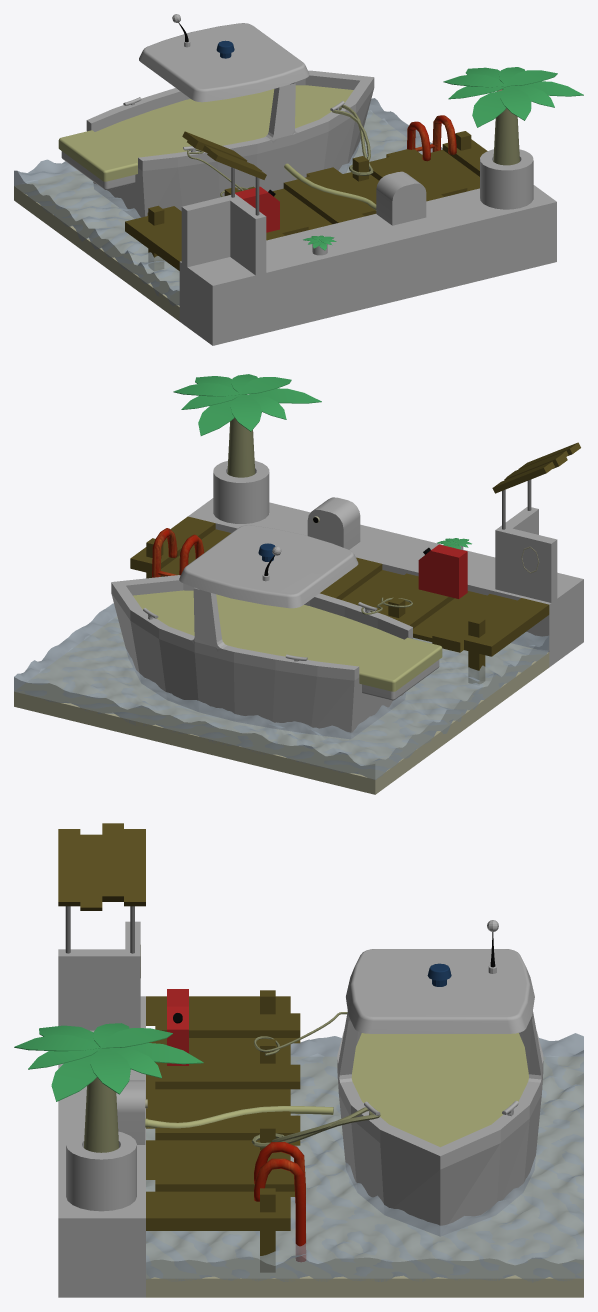
Rendered from BoatDockScene.fbx.
3 views of the same model, one above another, from view 1: azimuth 30°, elevation 25°; view 2: azimuth 150°, elevation 25°; view 3: azimuth 270°, elevation 25° (orthographic). The views are drawn at different scales.
Visible parts, largest first — view 1: Shore, polySurface4, SeaFloor1, BoatRoof, SeaFloor, polySurface12, pCube2, PlantPot, polySurface7, pCube1, MiddleLayer, pPlane6 (+13 smaller); view 2: polySurface4, SeaFloor1, SeaFloor, BoatRoof, polySurface12, Shore, pCube2, PlantPot, polySurface7, pCube3, pCube1, MiddleLayer (+9 smaller); view 3: SeaFloor1, SeaFloor, polySurface4, polySurface12, BoatRoof, Shore, pCube2, PlantPot, polySurface10, polySurface16, MiddleLayer, polySurface8 (+13 smaller).
Boxes of the visible parts, x1=… form: Shore: x1=179, y1=185, x2=556, y2=345; polySurface4: x1=86, y1=70, x2=374, y2=218; SeaFloor1: x1=14, y1=98, x2=442, y2=306; BoatRoof: x1=139, y1=23, x2=309, y2=102; SeaFloor: x1=14, y1=110, x2=421, y2=321; polySurface12: x1=125, y1=139, x2=487, y2=270; pCube2: x1=181, y1=194, x2=266, y2=275; PlantPot: x1=480, y1=149, x2=533, y2=209; polySurface7: x1=58, y1=130, x2=137, y2=181; pCube1: x1=376, y1=171, x2=426, y2=225; MiddleLayer: x1=443, y1=70, x2=557, y2=120; pPlane6: x1=465, y1=67, x2=583, y2=127; polySurface4: x1=111, y1=575, x2=412, y2=738; SeaFloor1: x1=14, y1=603, x2=549, y2=779; SeaFloor: x1=14, y1=617, x2=549, y2=794; BoatRoof: x1=179, y1=525, x2=358, y2=608; polySurface12: x1=130, y1=516, x2=549, y2=656; Shore: x1=188, y1=498, x2=583, y2=667; pCube2: x1=495, y1=507, x2=557, y2=602; PlantPot: x1=213, y1=460, x2=269, y2=523; polySurface7: x1=359, y1=637, x2=442, y2=691; pCube3: x1=418, y1=544, x2=467, y2=598; pCube1: x1=307, y1=497, x2=360, y2=549; MiddleLayer: x1=173, y1=377, x2=291, y2=431; SeaFloor1: x1=146, y1=1033, x2=583, y2=1282; SeaFloor: x1=146, y1=1057, x2=583, y2=1297; polySurface4: x1=337, y1=1011, x2=543, y2=1236; polySurface12: x1=146, y1=996, x2=290, y2=1230; BoatRoof: x1=346, y1=949, x2=534, y2=1033; Shore: x1=58, y1=996, x2=145, y2=1297; pCube2: x1=58, y1=921, x2=140, y2=1030; PlantPot: x1=66, y1=1131, x2=136, y2=1211; polySurface10: x1=155, y1=1064, x2=300, y2=1089; polySurface16: x1=58, y1=829, x2=145, y2=906; MiddleLayer: x1=14, y1=1028, x2=172, y2=1094; polySurface8: x1=155, y1=1167, x2=294, y2=1196.
Size of the model in its own units: 6.48 by 3.2 by 6.51.
13 materials, 1 textured.
